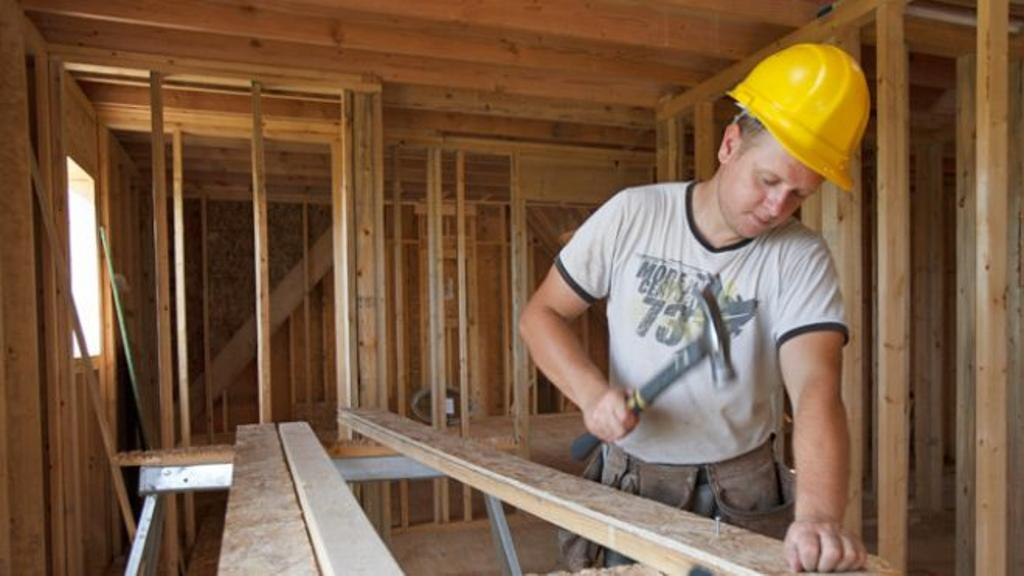face: (736, 136, 816, 234)
